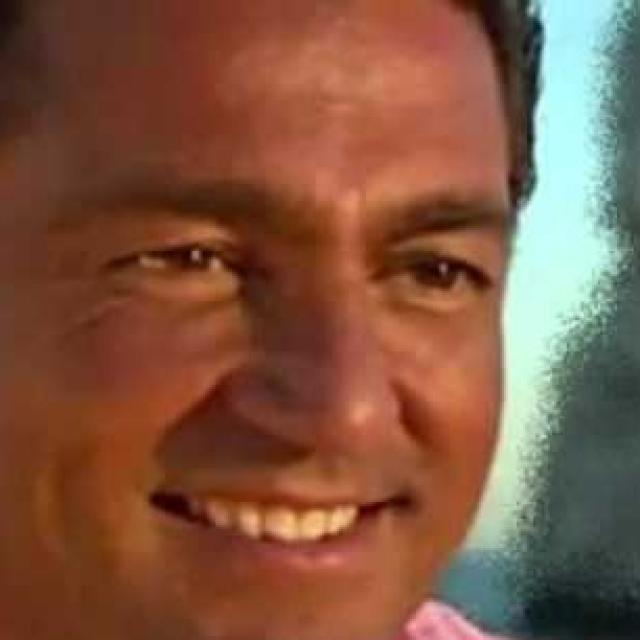Normal: (3, 0, 521, 635)
